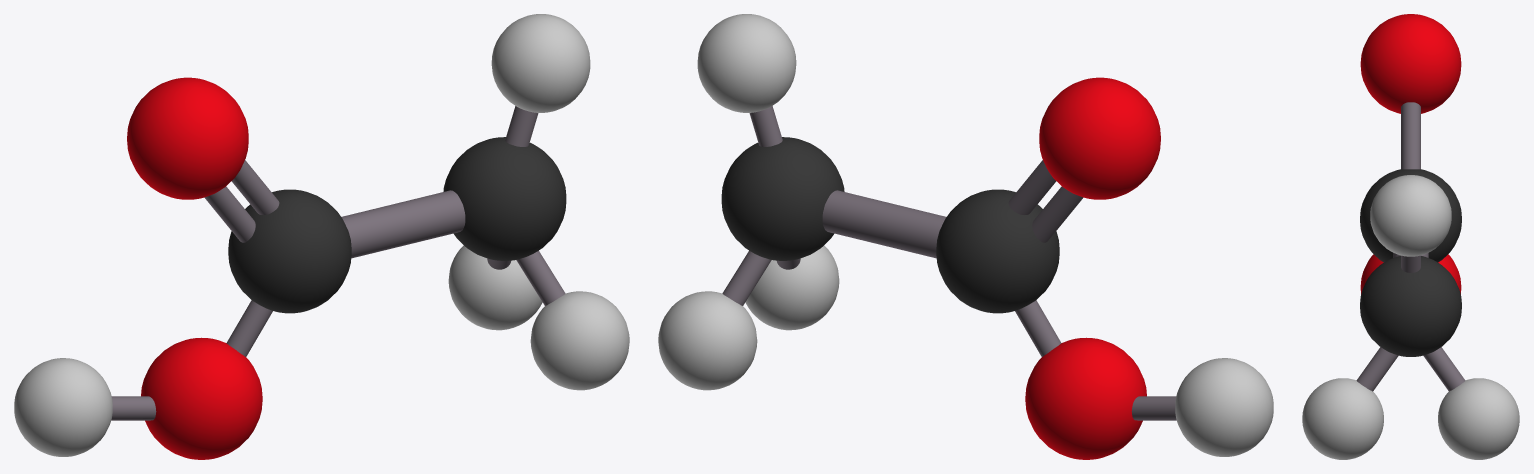
The model's file is acetic-acid.glb.
The picture shows the model from 3 angles, left to right: view 1: azimuth 30°, elevation 25°; view 2: azimuth 150°, elevation 25°; view 3: azimuth 270°, elevation 25°; orthographic projection. The views are drawn at different scales.
Parts seen in each view (by area): view 1: polySurface86.001, polySurface74.001, polySurface88.001, polySurface76.001; view 2: polySurface86.001, polySurface74.001, polySurface88.001, polySurface76.001; view 3: polySurface86.001, polySurface88.001, polySurface74.001, polySurface76.001.
Boxes of the visible parts, box(x1,y1,x2,y2) form: polySurface86.001: box(14, 14, 629, 456); polySurface74.001: box(127, 77, 262, 459); polySurface88.001: box(228, 137, 566, 313); polySurface76.001: box(111, 106, 565, 420); polySurface86.001: box(658, 14, 1273, 456); polySurface74.001: box(1025, 77, 1160, 459); polySurface88.001: box(721, 137, 1059, 313); polySurface76.001: box(722, 106, 1176, 420); polySurface86.001: box(1302, 175, 1519, 459); polySurface88.001: box(1360, 169, 1461, 356); polySurface74.001: box(1360, 14, 1461, 294); polySurface76.001: box(1356, 102, 1465, 391).
Size of the model in its own units: 10.5 by 6.66 by 4.25.
